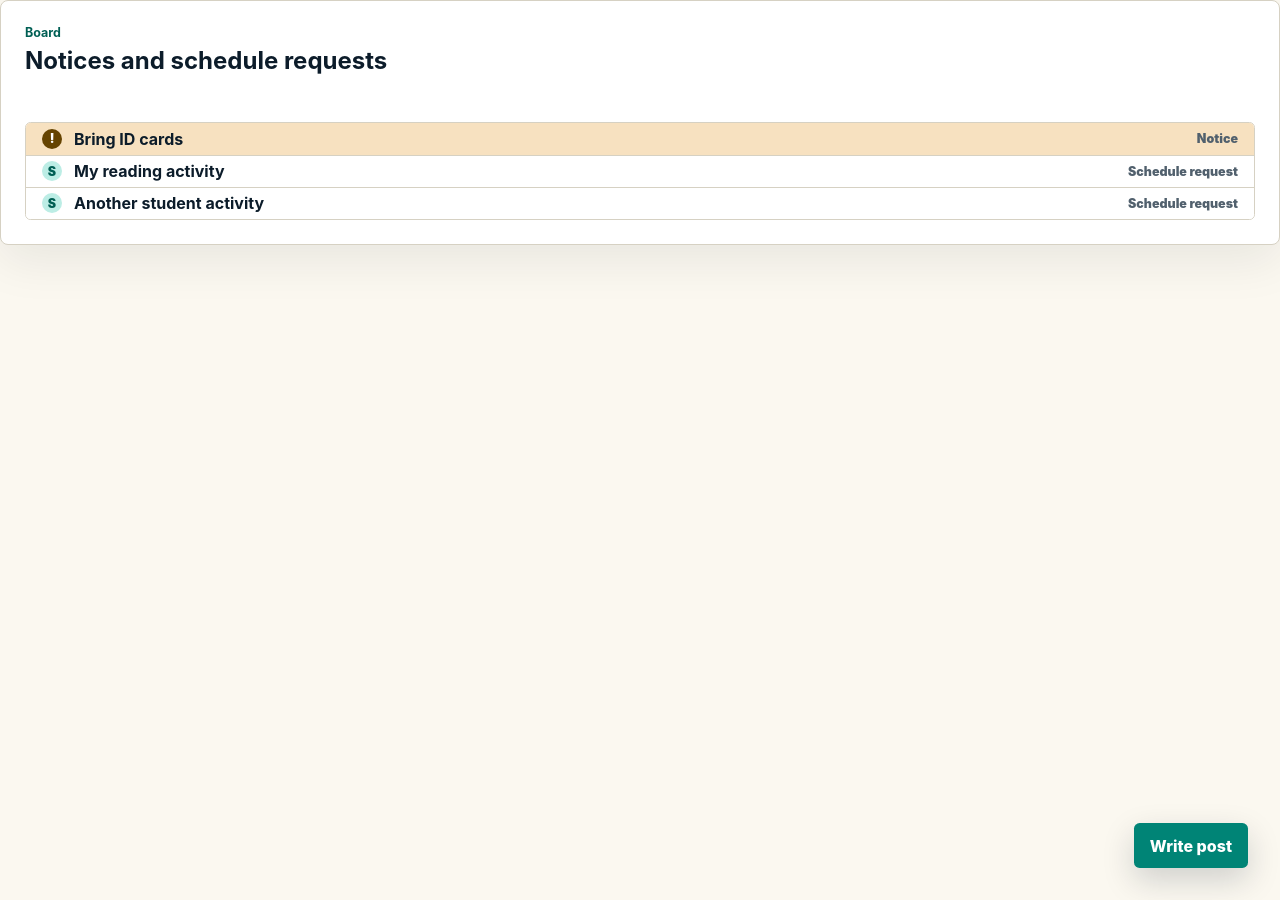
BoardScreen › shows all schedule request titles before opening the writer and hides row bodies
The width and height of the screenshot is (1280, 900).
Expected: the field labelled "Post type" is not shown
Expected: the field labelled "Title" is not shown
Click the button "Write post": x=1191, y=846 left=1134, top=823, right=1248, bottom=868
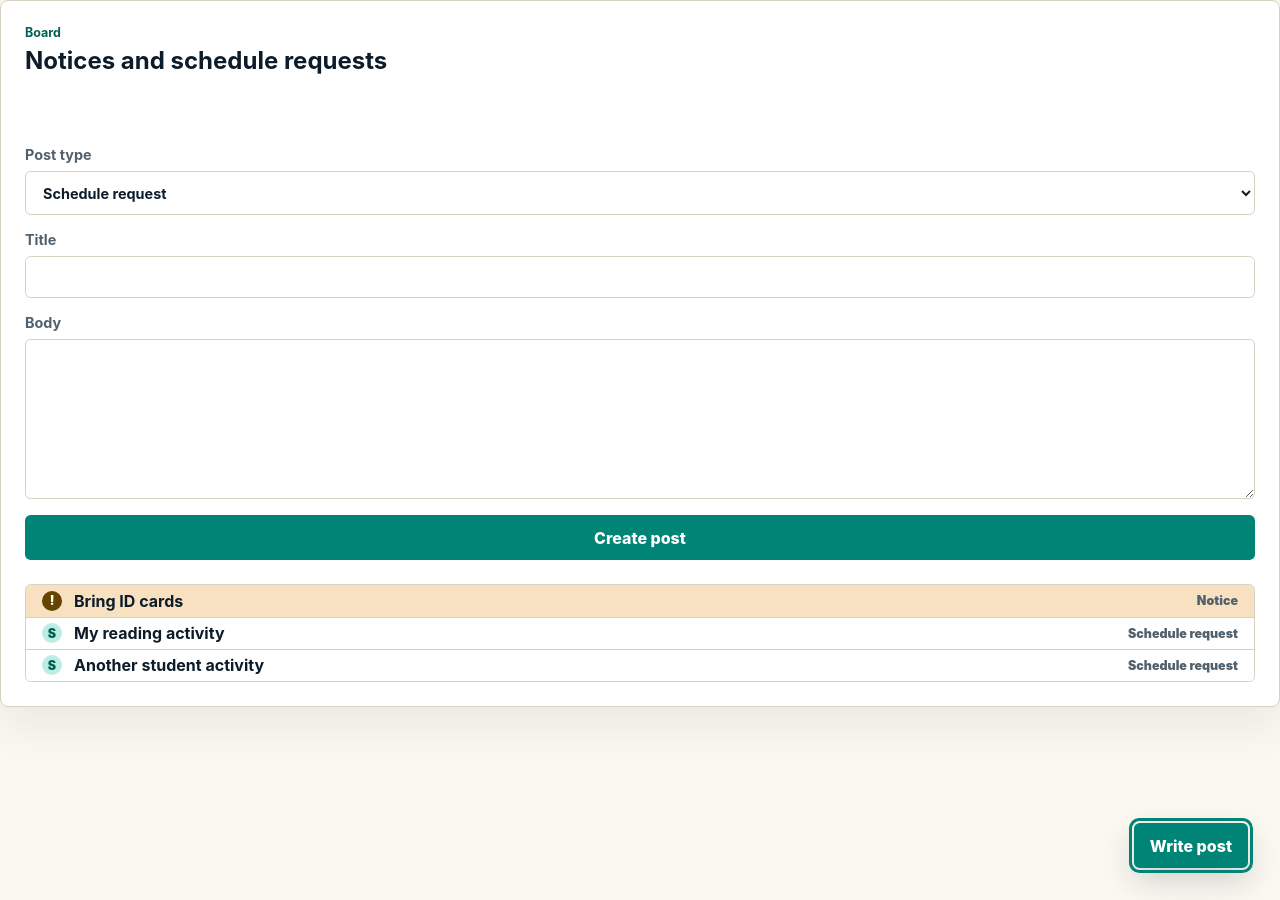
Now the dropdown labelled "Post type" is shown, box left=25, top=171, right=1255, bottom=215
Now the field labelled "Title" is shown, box left=25, top=256, right=1255, bottom=298
